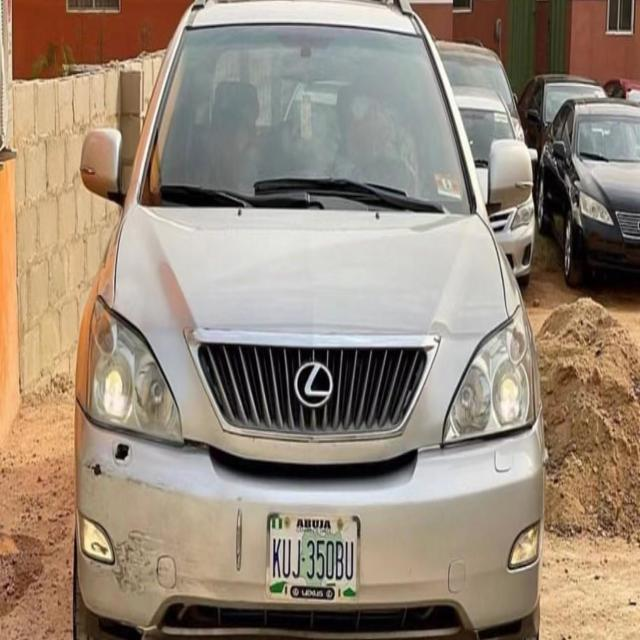Nigerian License Plate - vdataset benjamin-daria: (267, 508, 361, 609)
